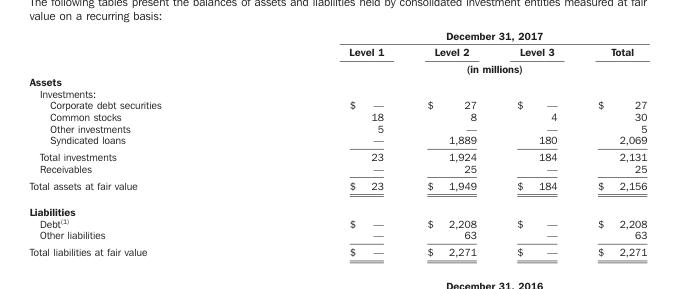table: (28, 28, 646, 257)
table column: (28, 28, 254, 257), (254, 28, 404, 257), (404, 28, 496, 257), (496, 28, 576, 257), (576, 28, 646, 257)
table column header: (28, 28, 646, 74)
table projected row header: (28, 197, 646, 216), (28, 74, 646, 87), (28, 87, 646, 98)
table row: (28, 176, 646, 197), (28, 197, 646, 216), (28, 43, 646, 60), (28, 28, 646, 43), (28, 147, 646, 162), (28, 242, 646, 257), (28, 60, 646, 74), (28, 133, 646, 147), (28, 162, 646, 176), (28, 228, 646, 242), (28, 74, 646, 87), (28, 98, 646, 110), (28, 110, 646, 122), (28, 216, 646, 228), (28, 87, 646, 98), (28, 122, 646, 133)
table spanning cell: (254, 28, 646, 43), (254, 60, 646, 74)
